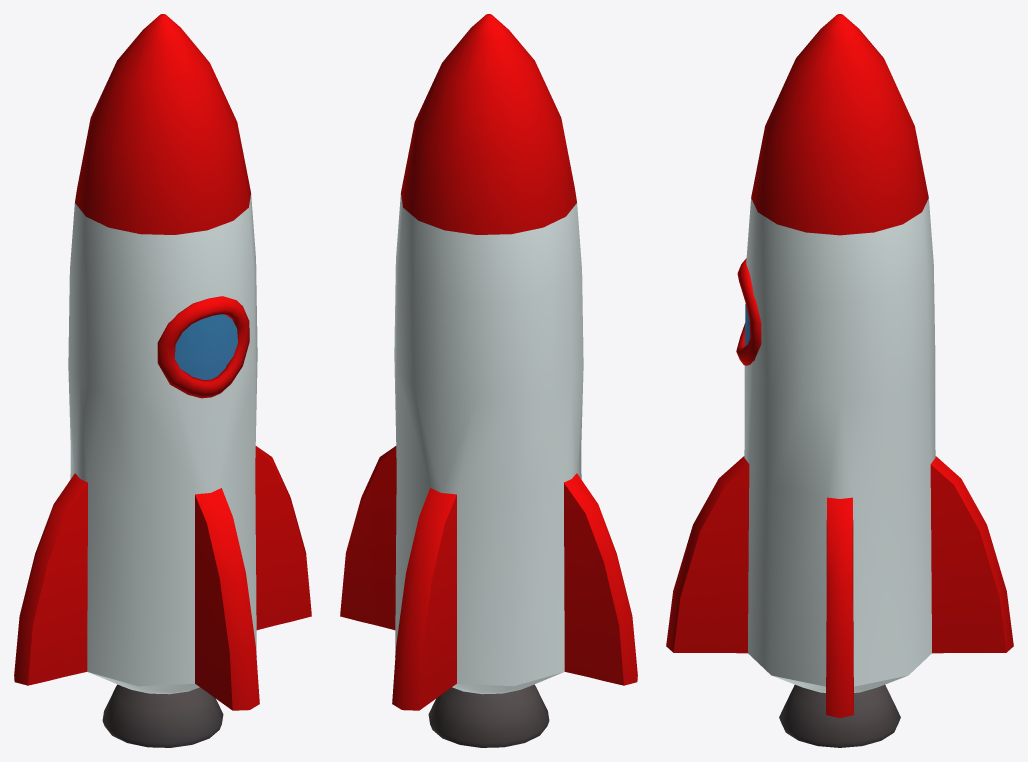
File: Rocket_1.fbx
3 renders of one model, left to right at view 1: azimuth 30°, elevation 25°; view 2: azimuth 150°, elevation 25°; view 3: azimuth 270°, elevation 25°, orthographic.
Visible parts, largest first — view 1: Rocket_1; view 2: Rocket_1; view 3: Rocket_1.
Part boxes in pixels (x1,y1,x2,y2): Rocket_1: (14,14,311,747); Rocket_1: (340,14,637,747); Rocket_1: (666,14,1013,747).
Bounding box in the file's own units: 0.7761 × 1.77 × 0.788.
